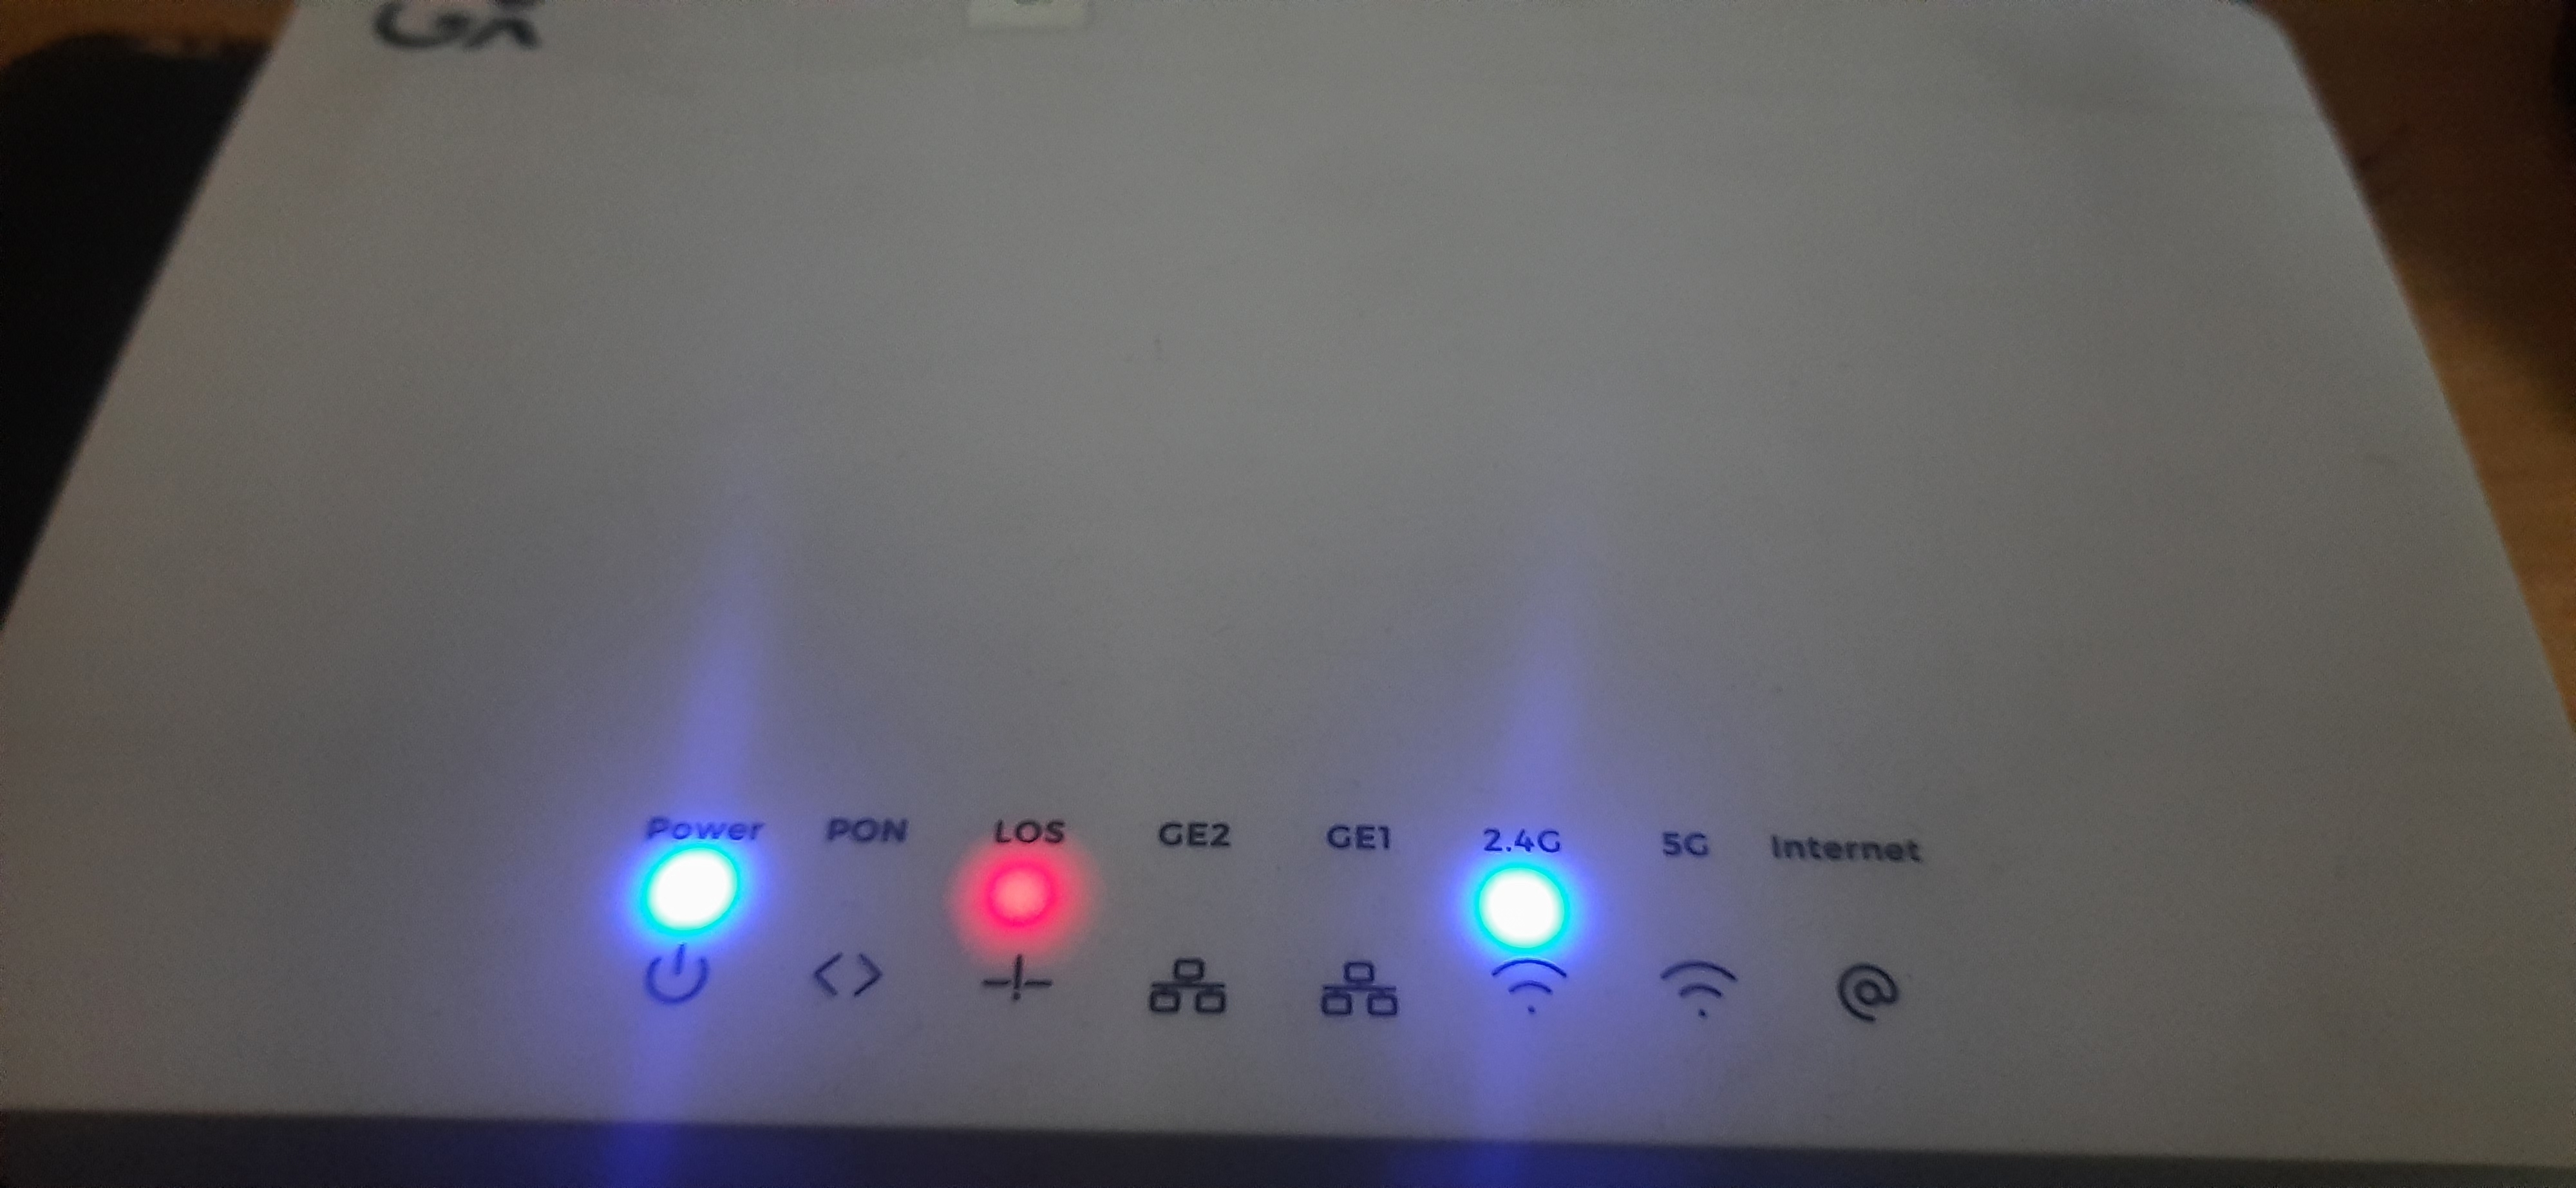LOSConnectionIssue: (928, 800, 1143, 1048)
